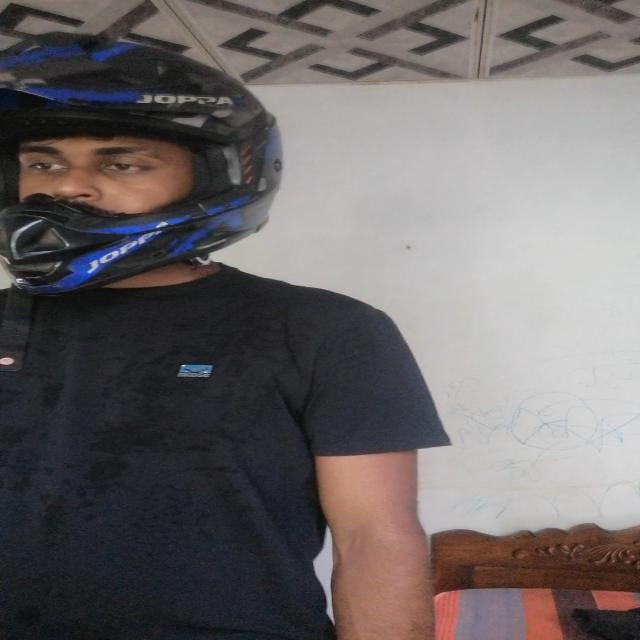Helmet_Wearer: (0, 38, 287, 324)
Person: (0, 30, 467, 640)
